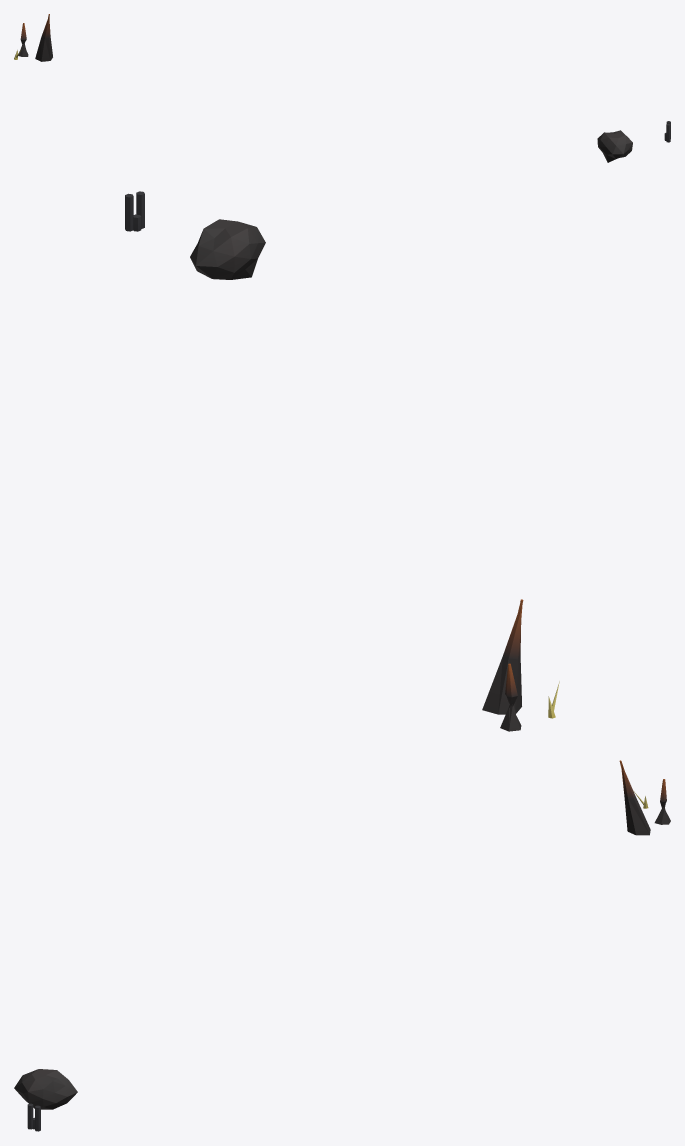
File: ash_land_scatter_c24_28.glb
3 renders of one model, top to bottom at view 1: azimuth 30°, elevation 25°; view 2: azimuth 150°, elevation 25°; view 3: azimuth 270°, elevation 25°, orthographic. The views are drawn at different scales.
Parts seen in each view (by area): view 1: ash_land_scatter_c24_28; view 2: ash_land_scatter_c24_28; view 3: ash_land_scatter_c24_28.
Part boxes in pixels (bbox=[...]): ash_land_scatter_c24_28: bbox=[14, 14, 670, 162]; ash_land_scatter_c24_28: bbox=[125, 191, 559, 731]; ash_land_scatter_c24_28: bbox=[14, 760, 670, 1131].
Size of the model in its own units: 95.17 by 16.34 by 90.27.
